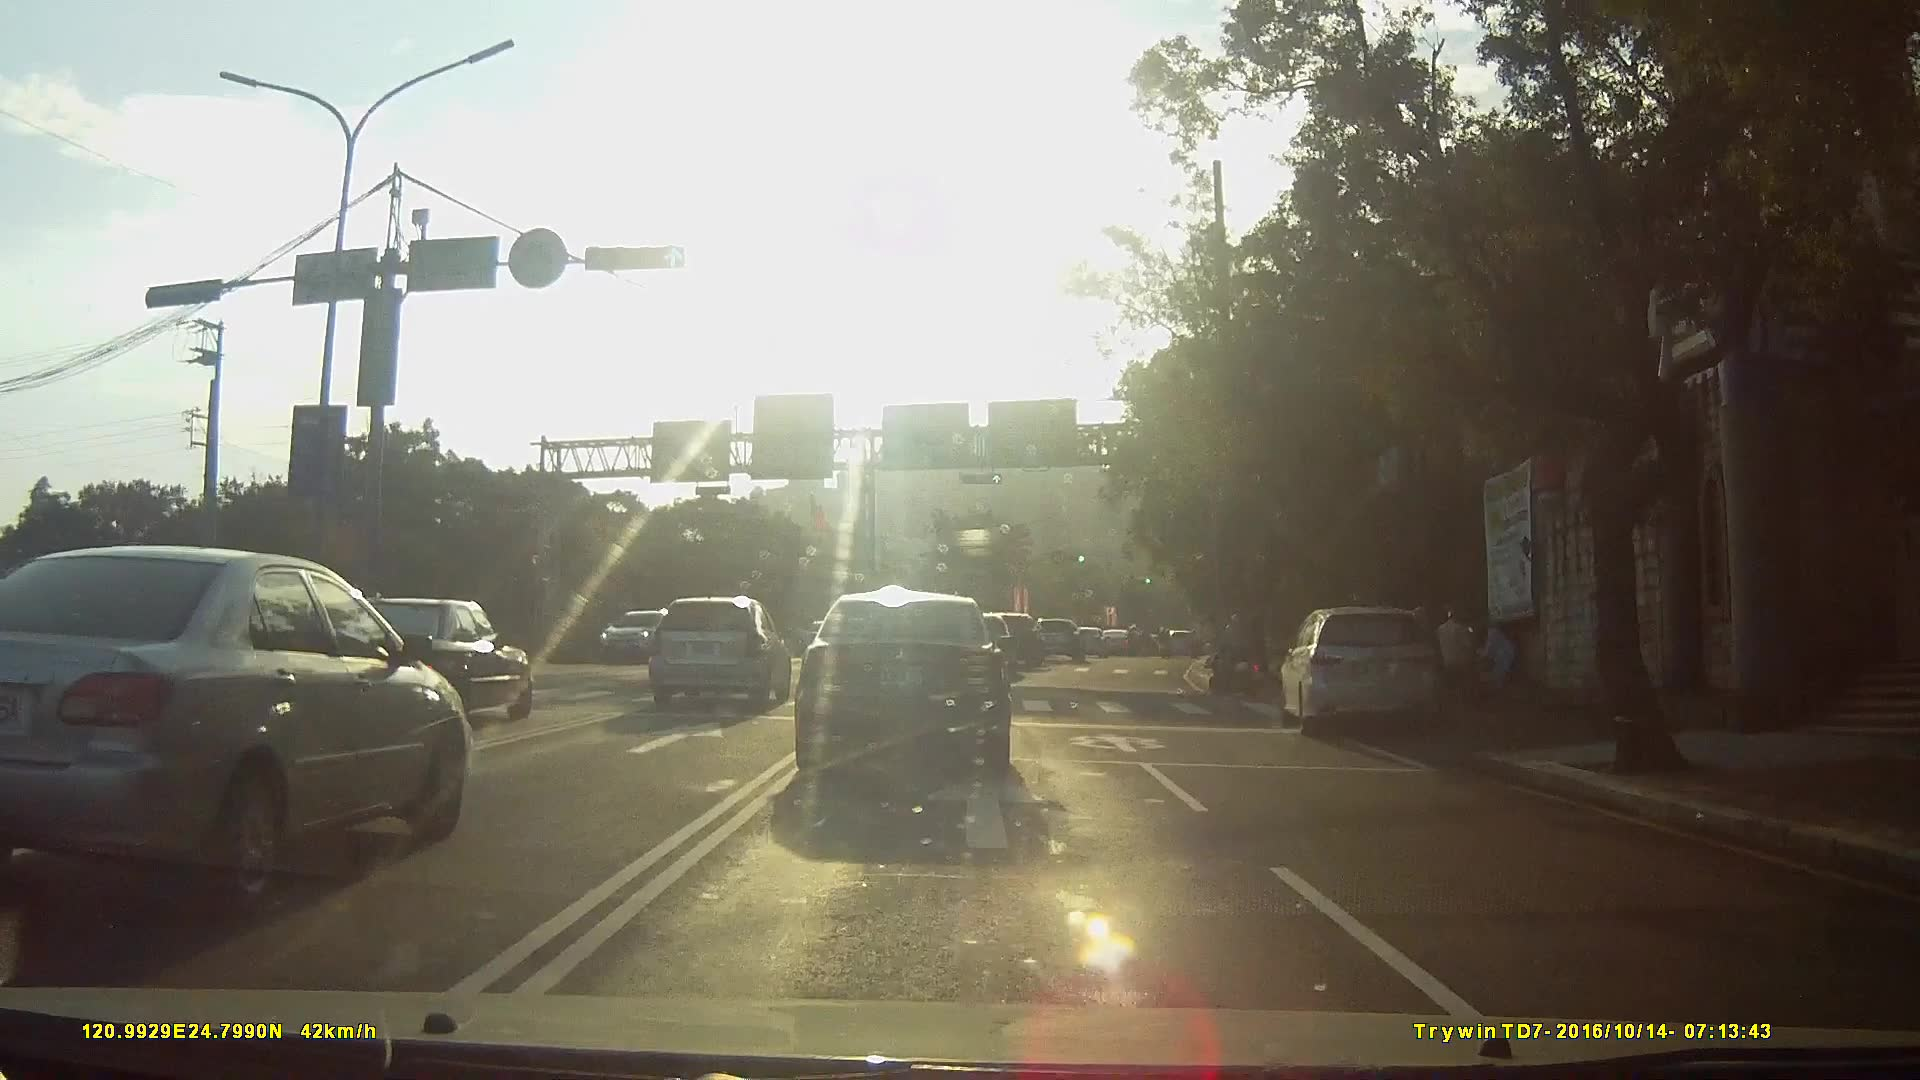pedestrian: (1442, 606, 1480, 723), (1482, 621, 1519, 691)
rider: (1212, 608, 1270, 693)
vehicle: (0, 548, 478, 914), (790, 591, 1034, 799), (327, 596, 542, 727), (1277, 600, 1461, 742), (650, 596, 797, 716), (596, 605, 680, 666), (991, 609, 1053, 667), (1036, 616, 1093, 662), (1074, 624, 1113, 656), (1106, 627, 1137, 655)
